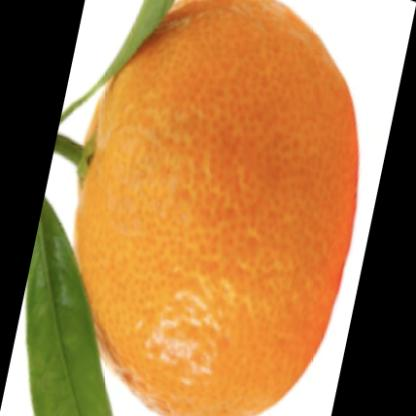fresh: (75, 1, 358, 416)
